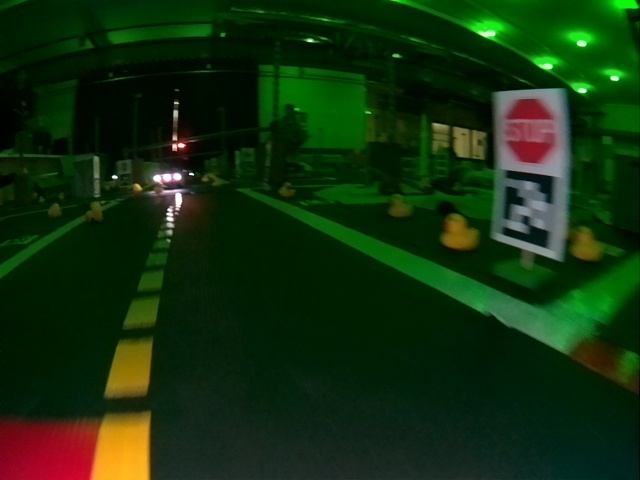Duckie: (441, 213, 474, 249), (572, 227, 596, 261), (388, 193, 413, 217), (279, 182, 292, 195), (49, 204, 61, 215)
QR code: (495, 173, 562, 253)
Stop sign: (497, 95, 557, 167)
Traffic light: (176, 142, 186, 149)
